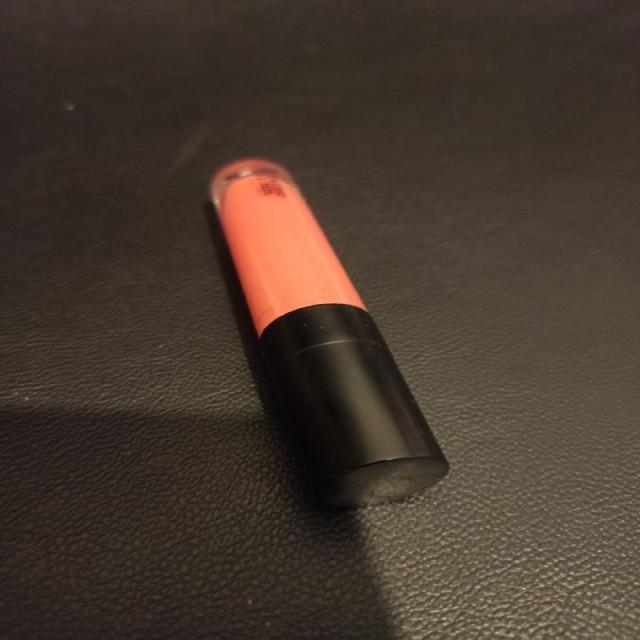lipstick: (207, 156, 450, 509)
